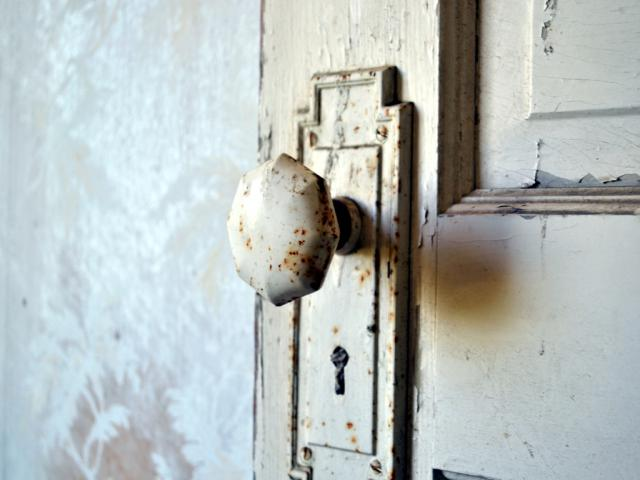Door-handle: (225, 62, 406, 480)
